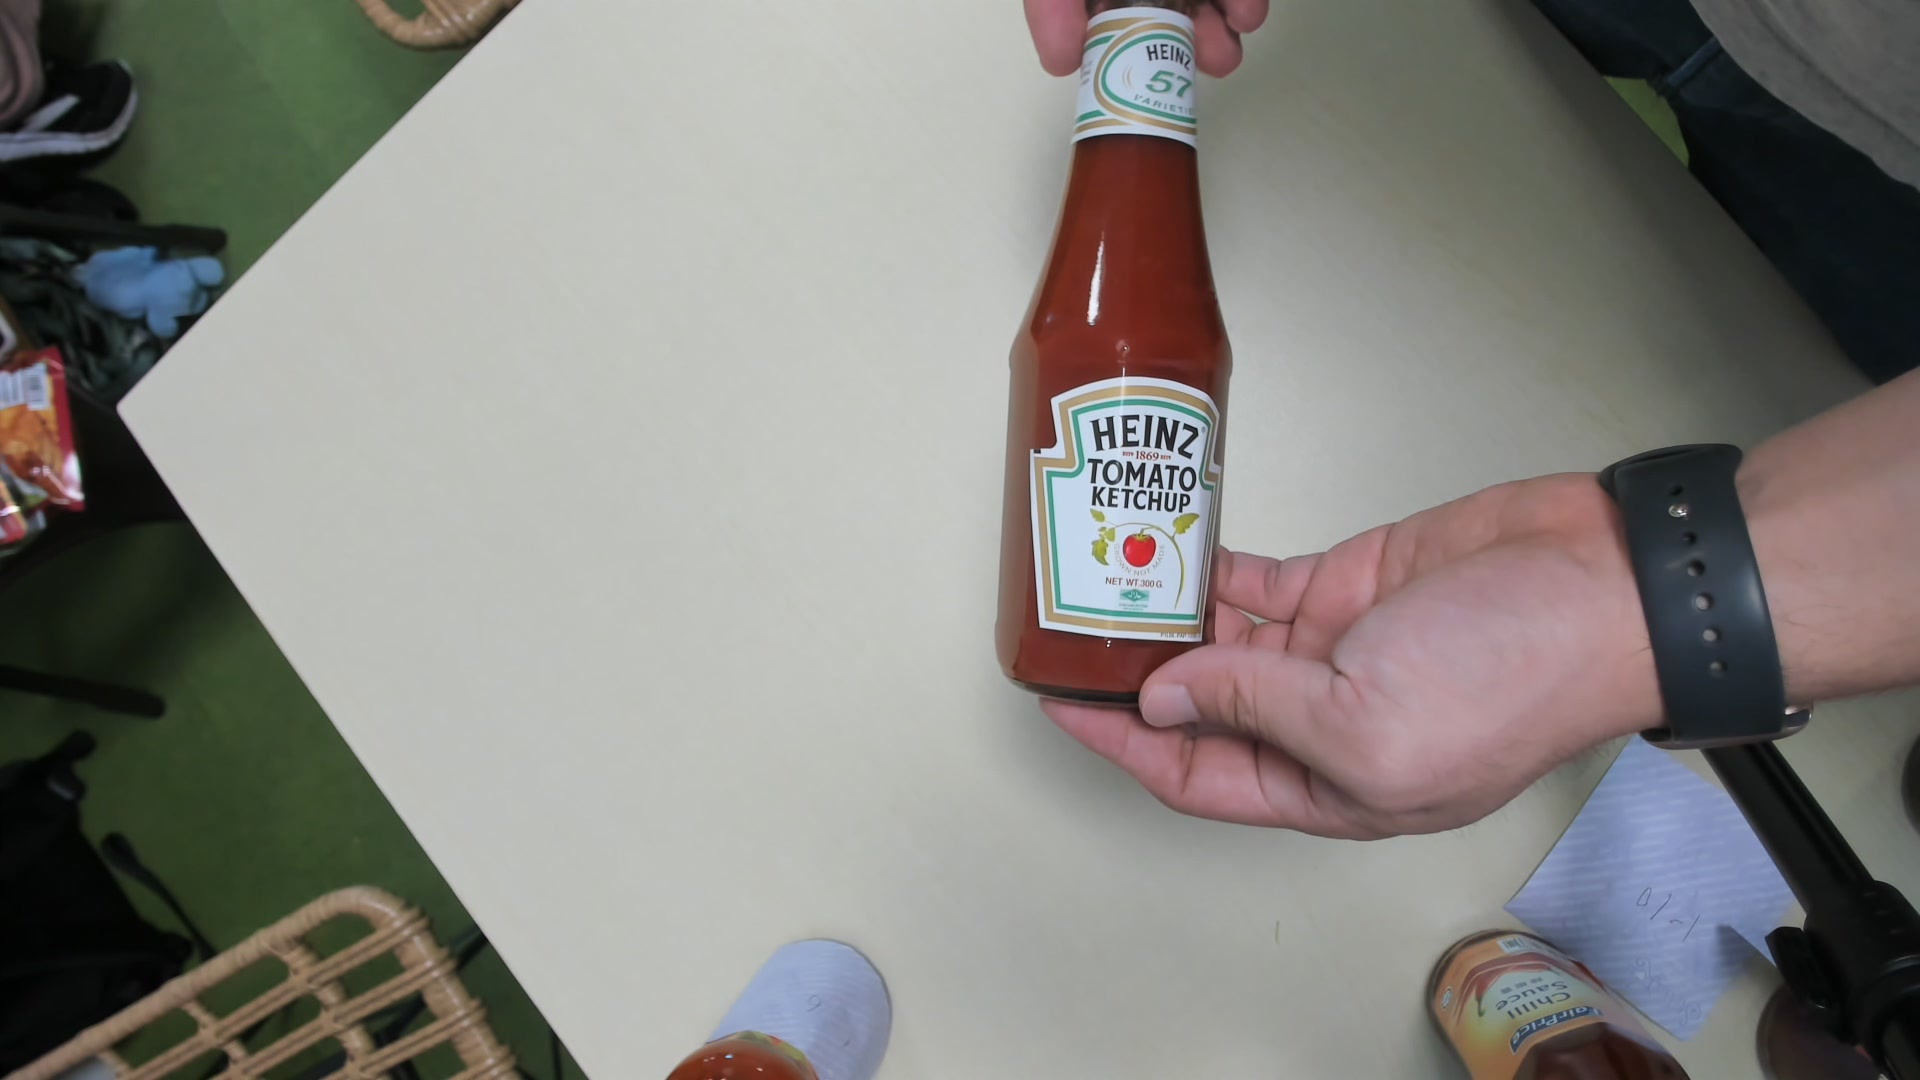KetchupChillSauce_300-399g_Halal_NonHealthy: (992, 3, 1240, 709)
